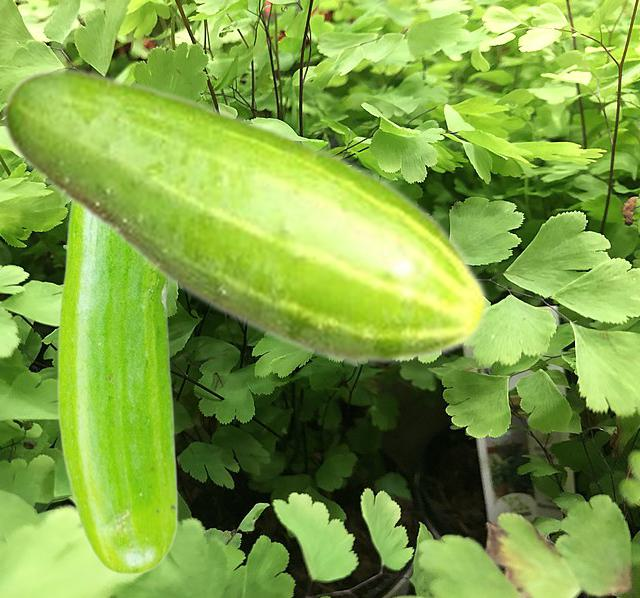cucumber: (0, 66, 490, 368), (57, 204, 177, 574)
